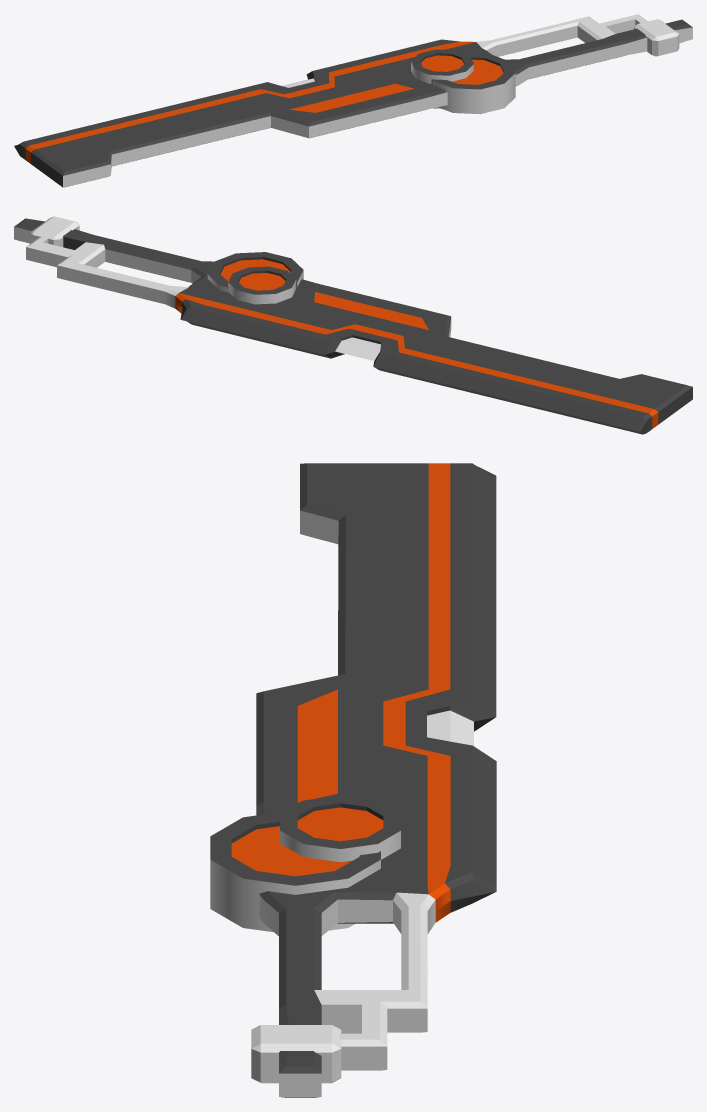
The model's file is swoud1.fbx.
The picture shows the model from 3 angles, top to bottom: view 1: azimuth 30°, elevation 25°; view 2: azimuth 150°, elevation 25°; view 3: azimuth 270°, elevation 25°; orthographic projection. The views are drawn at different scales.
Parts seen in each view (by area): view 1: pCube3; view 2: pCube3; view 3: pCube3.
Part boxes in pixels (left/top/right/bottom): pCube3: left=14, top=14, right=692, bottom=187; pCube3: left=14, top=216, right=692, bottom=434; pCube3: left=210, top=463, right=496, bottom=1097.
Bounding box in the file's own units: 22.71 × 1.16 × 4.5.
